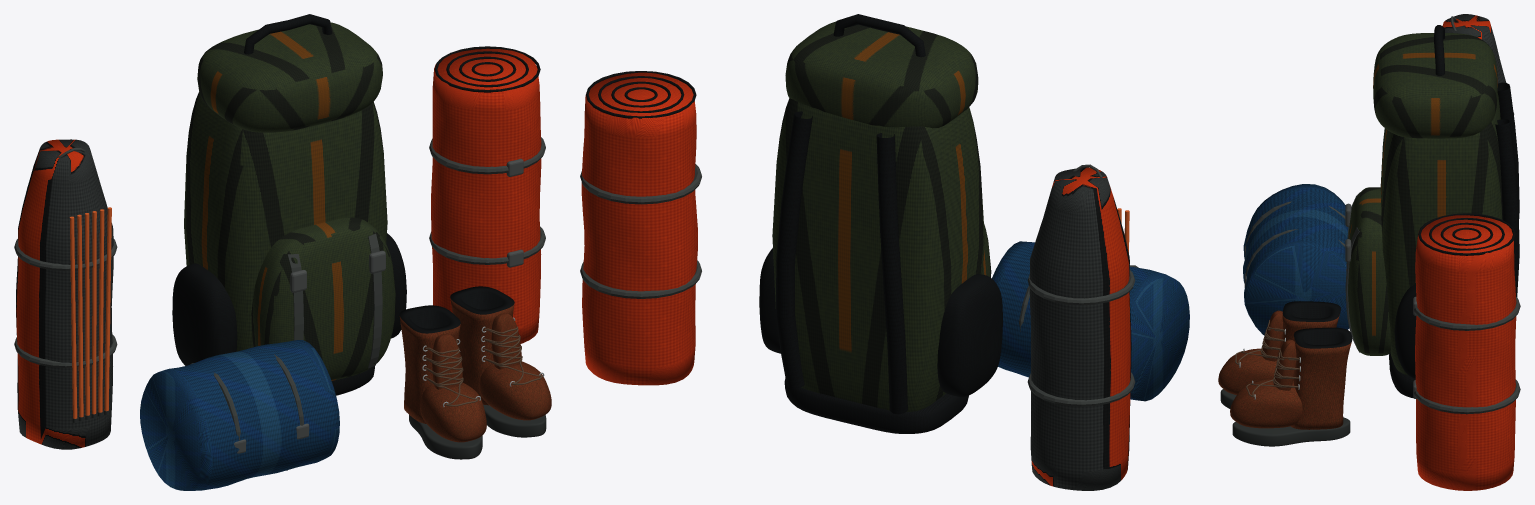
File: MissionCampingEquipmentCargo_LOD00.gltf
The picture shows the model from 3 angles, left to right: view 1: azimuth 30°, elevation 25°; view 2: azimuth 150°, elevation 25°; view 3: azimuth 270°, elevation 25°; orthographic projection. The views are drawn at different scales.
Visible parts, largest first — view 1: CampingEquipmentBackpack, CampingEquipmentRolls, CampingEquipmentTentPack, CampingEquipmentBoots; view 2: CampingEquipmentBackpack, CampingEquipmentRolls, CampingEquipmentTentPack; view 3: CampingEquipmentRolls, CampingEquipmentBackpack, CampingEquipmentBoots, CampingEquipmentTentPack.
Boxes of the visible parts, left/top/right/bottom form: CampingEquipmentBackpack: left=172, top=14, right=406, bottom=395; CampingEquipmentRolls: left=140, top=46, right=545, bottom=490; CampingEquipmentTentPack: left=14, top=139, right=117, bottom=449; CampingEquipmentBoots: left=399, top=286, right=551, bottom=459; CampingEquipmentBackpack: left=759, top=14, right=1002, bottom=433; CampingEquipmentRolls: left=580, top=71, right=1189, bottom=401; CampingEquipmentTentPack: left=1027, top=164, right=1135, bottom=490; CampingEquipmentRolls: left=1243, top=184, right=1520, bottom=490; CampingEquipmentBackpack: left=1345, top=25, right=1519, bottom=398; CampingEquipmentBoots: left=1218, top=301, right=1352, bottom=446; CampingEquipmentTentPack: left=1442, top=14, right=1514, bottom=114.
Size of the model in its own units: 1.64 by 1.12 by 0.9052.
Materials: 12 (6 with a texture image).
